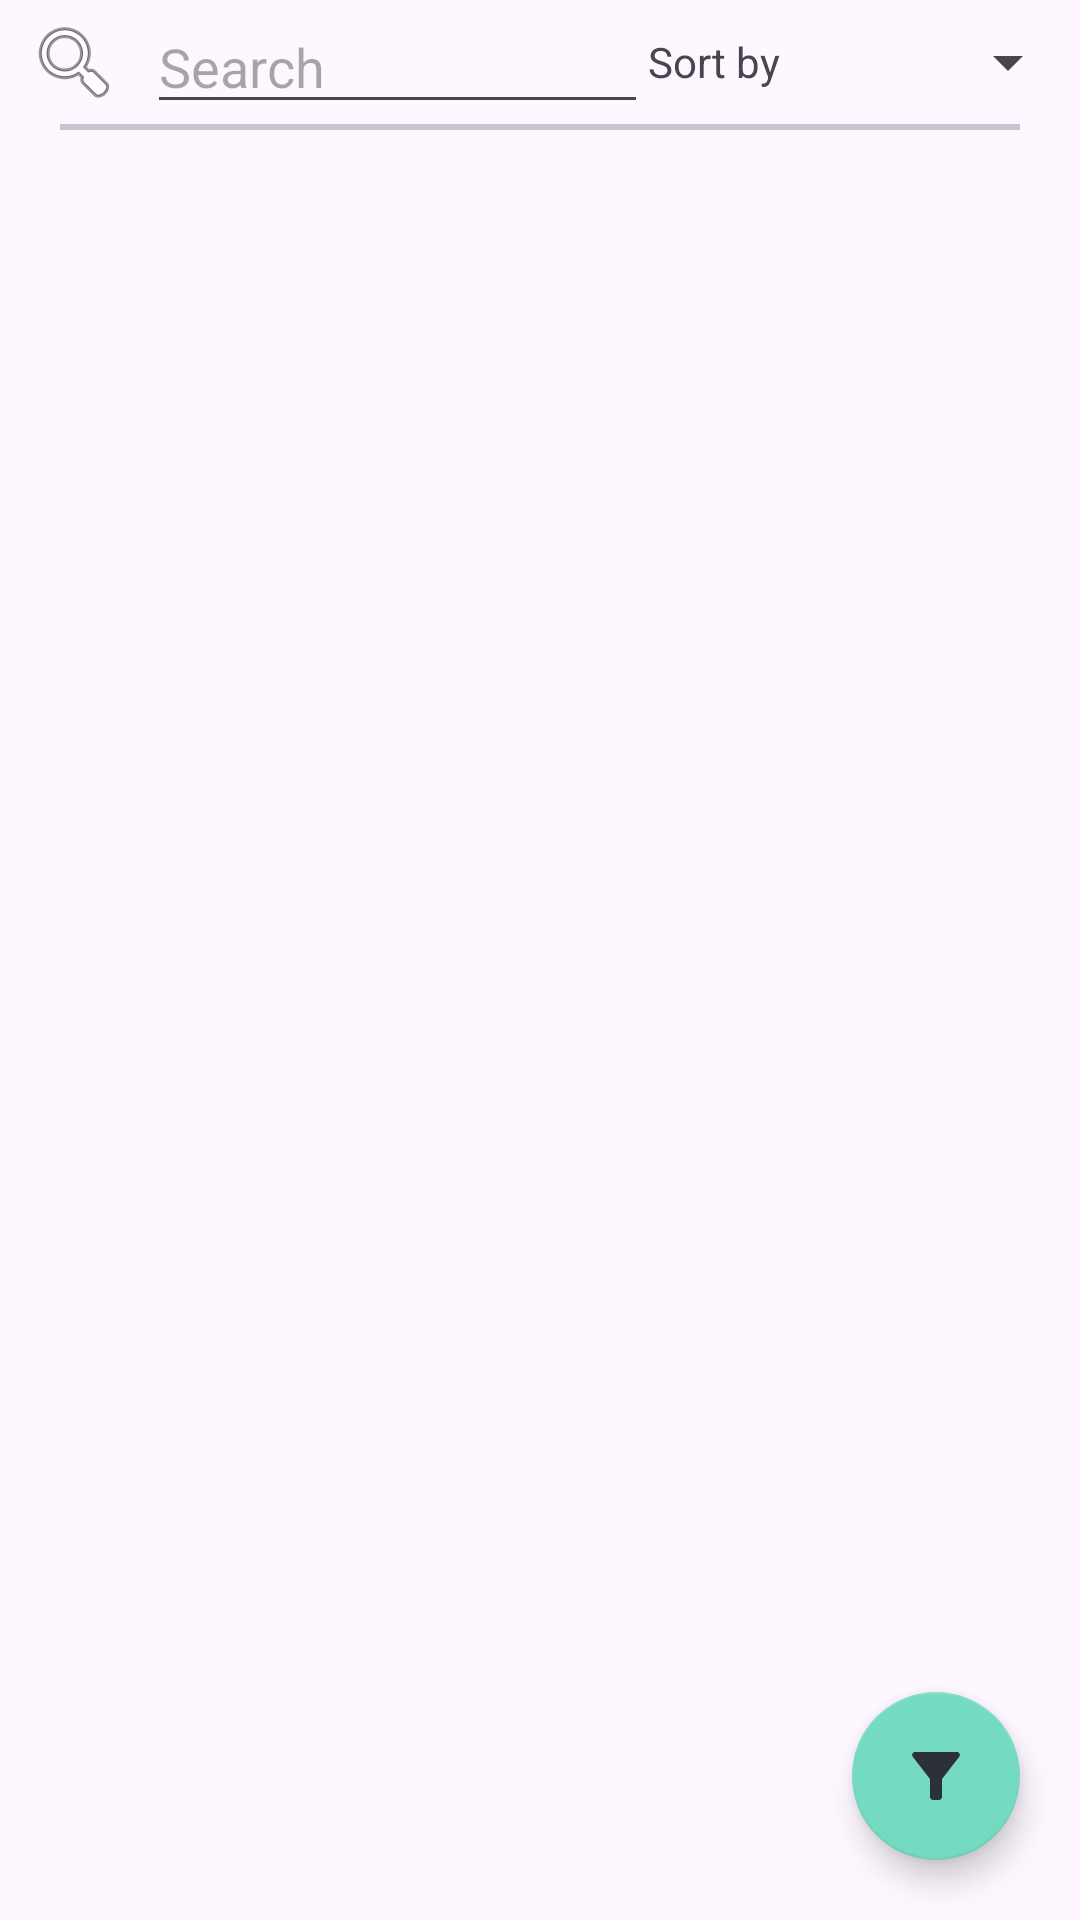

Point at icon controls on the screen. Image size 1080x1920, points as [x,y].
filter: [936,1776]
